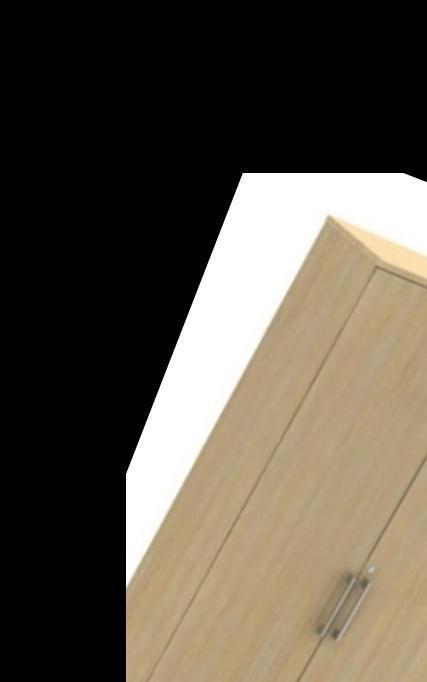Armario: (44, 185, 427, 682)
